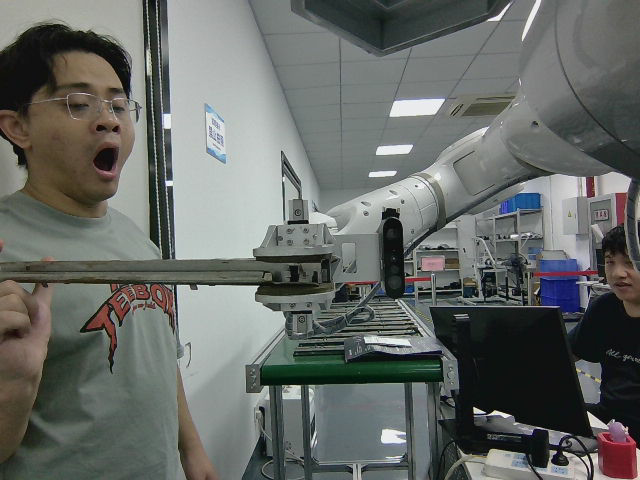down: (1, 258, 332, 288)
